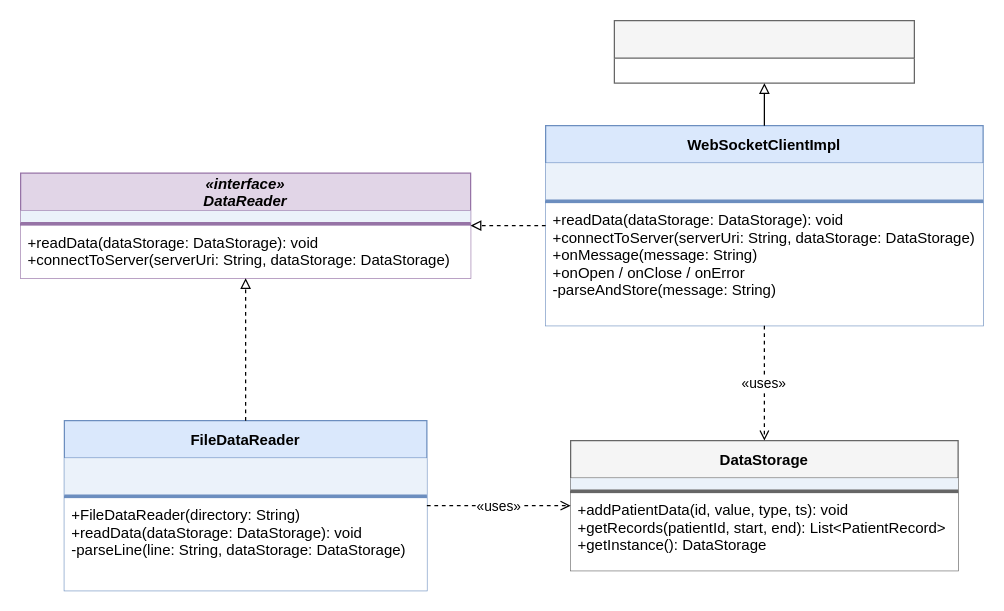
Image size: 1004x611. Some labels were removed from this diagram. The shapes that lost their labels are listed below. From the top down, each one's centre as x and y in pixels, then its label:
At (x=763, y=51): "WebSocketClient".
At (x=763, y=181): "-dataStorage: DataStorage".
At (x=245, y=476): "-directory: String".
